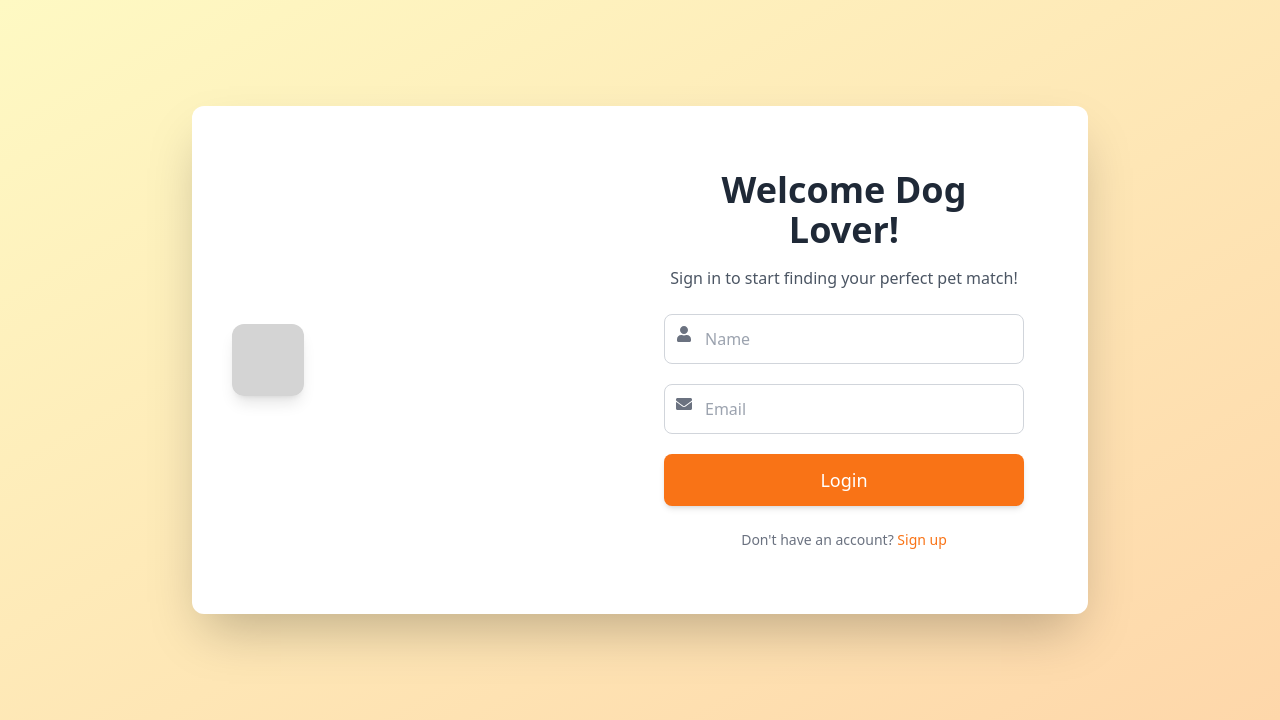
Scenario: Login Page Test › should show validation errors when fields are empty
Click the submit button at (844, 480), box [664, 454, 1024, 506]
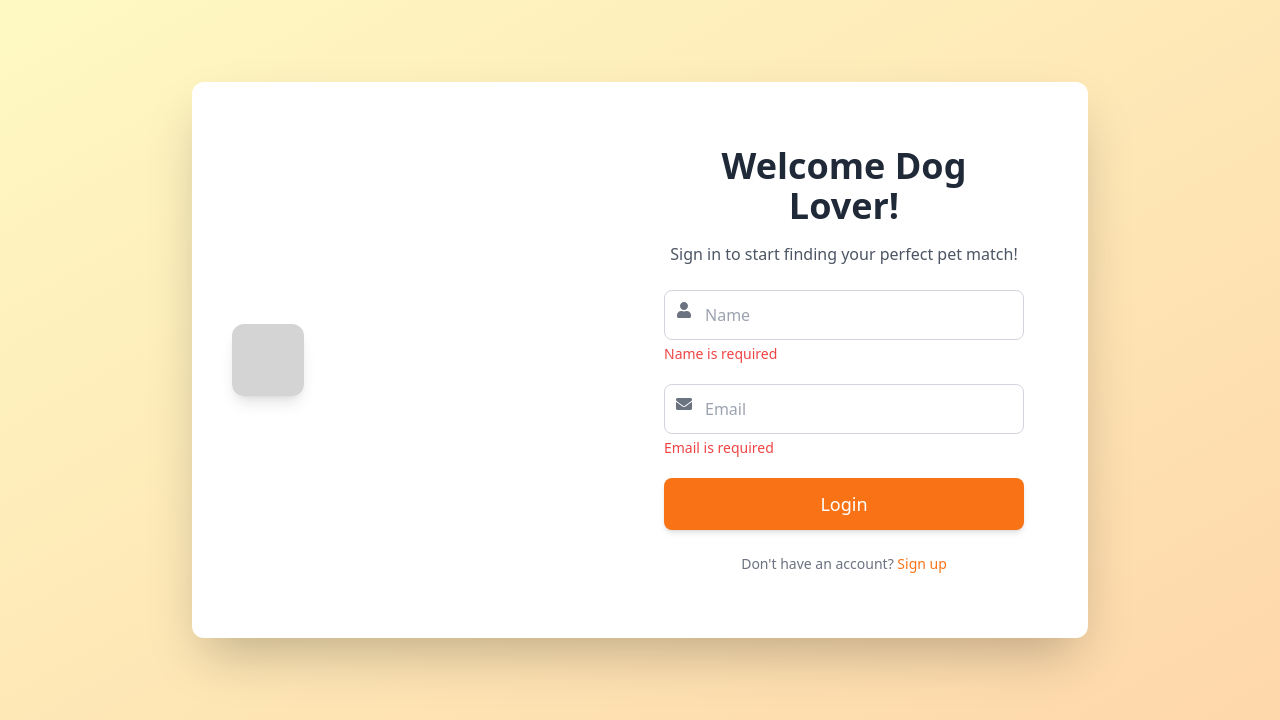
Result: the text "Name is required" is shown at [664, 344, 777, 363]
Result: the text "Email is required" is shown at [664, 438, 774, 457]
